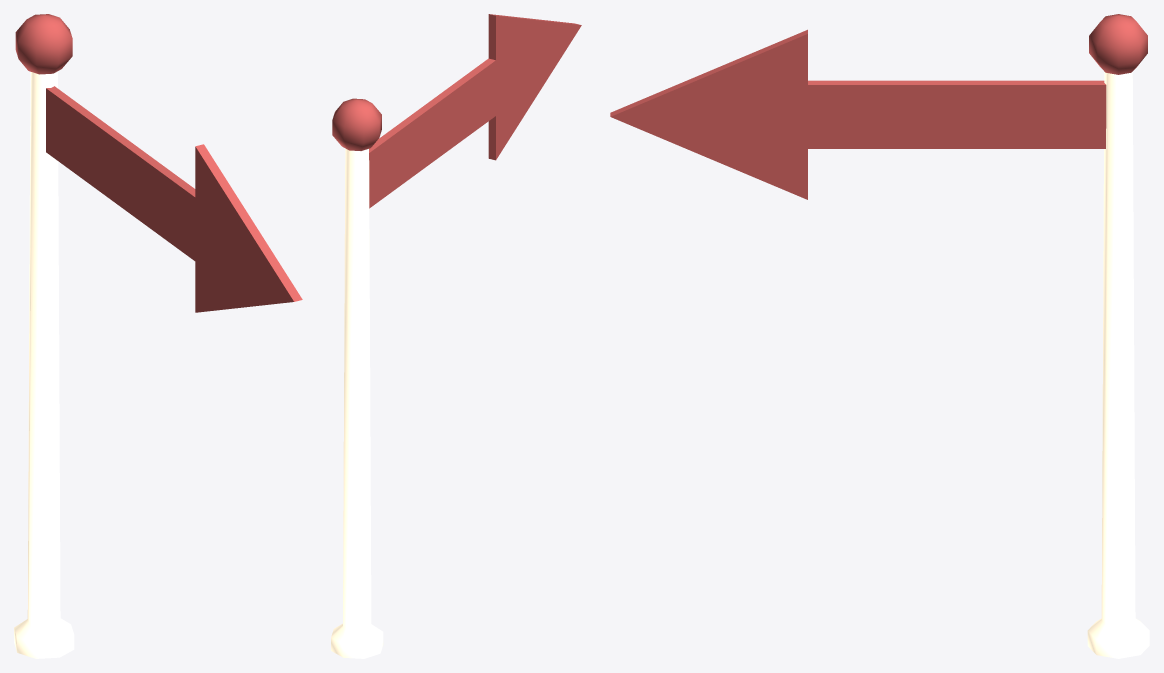
Rendered from spin-arrow.glb.
3 renders of one model, left to right at view 1: azimuth 30°, elevation 25°; view 2: azimuth 150°, elevation 25°; view 3: azimuth 270°, elevation 25°, orthographic. The views are drawn at different scales.
Parts seen in each view (by area): view 1: spin-flag, spin-pole; view 2: spin-flag, spin-pole; view 3: spin-flag, spin-pole.
Part boxes in pixels (bbox=[...]): spin-flag: bbox=[15, 14, 302, 312]; spin-pole: bbox=[14, 71, 74, 658]; spin-flag: bbox=[332, 14, 581, 208]; spin-pole: bbox=[331, 148, 383, 658]; spin-flag: bbox=[610, 14, 1147, 199]; spin-pole: bbox=[1087, 72, 1149, 658].
Bounding box in the file's own units: 0.44 × 4.92 × 3.82.
